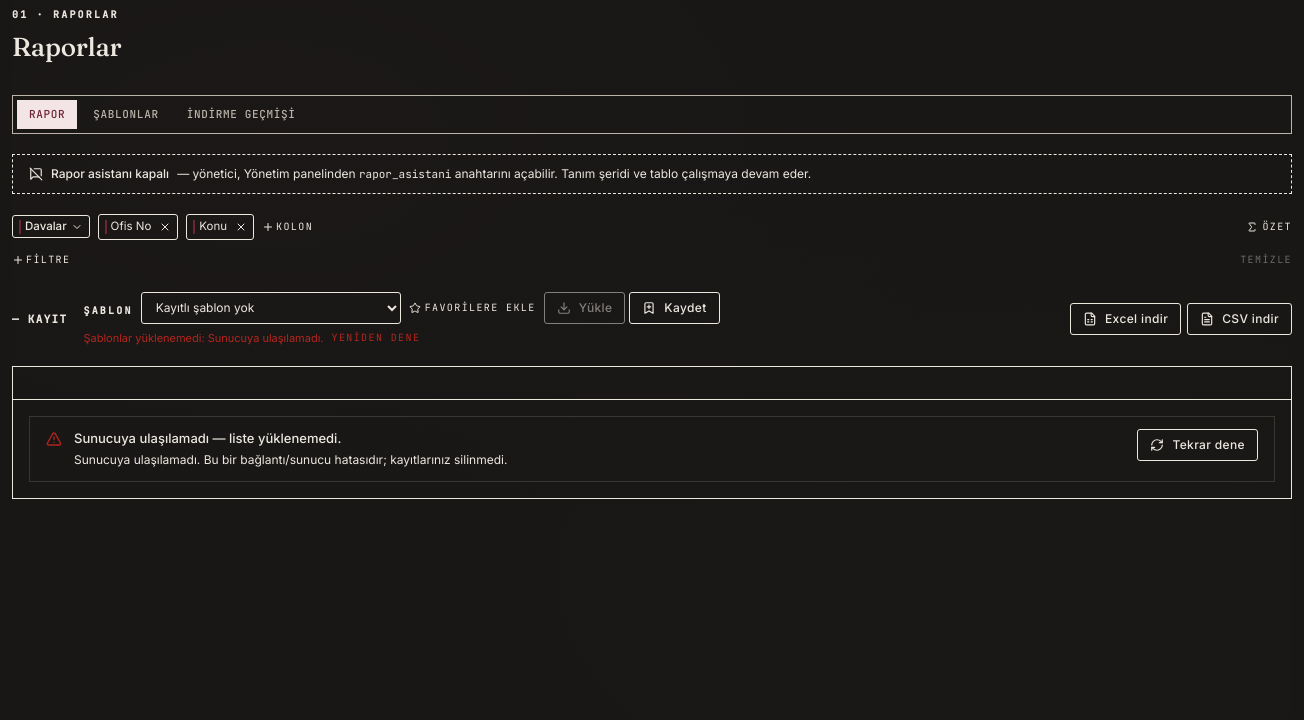
Test case: ReportsPage (G133/G138/G175) › ağ hatasında tablo boş listeye DÖNMEZ: DataErrorBanner + Tekrar dene; hata döngüye girmez
Expected: the message shows "Sunucuya ulaşılamadı.", [74,452,204,466]
Expected: the message shows "kayıtlarınız silinmedi", [204,452,507,466]
Click the button "Tekrar dene" at [1198, 445], box [1137,429,1258,461]
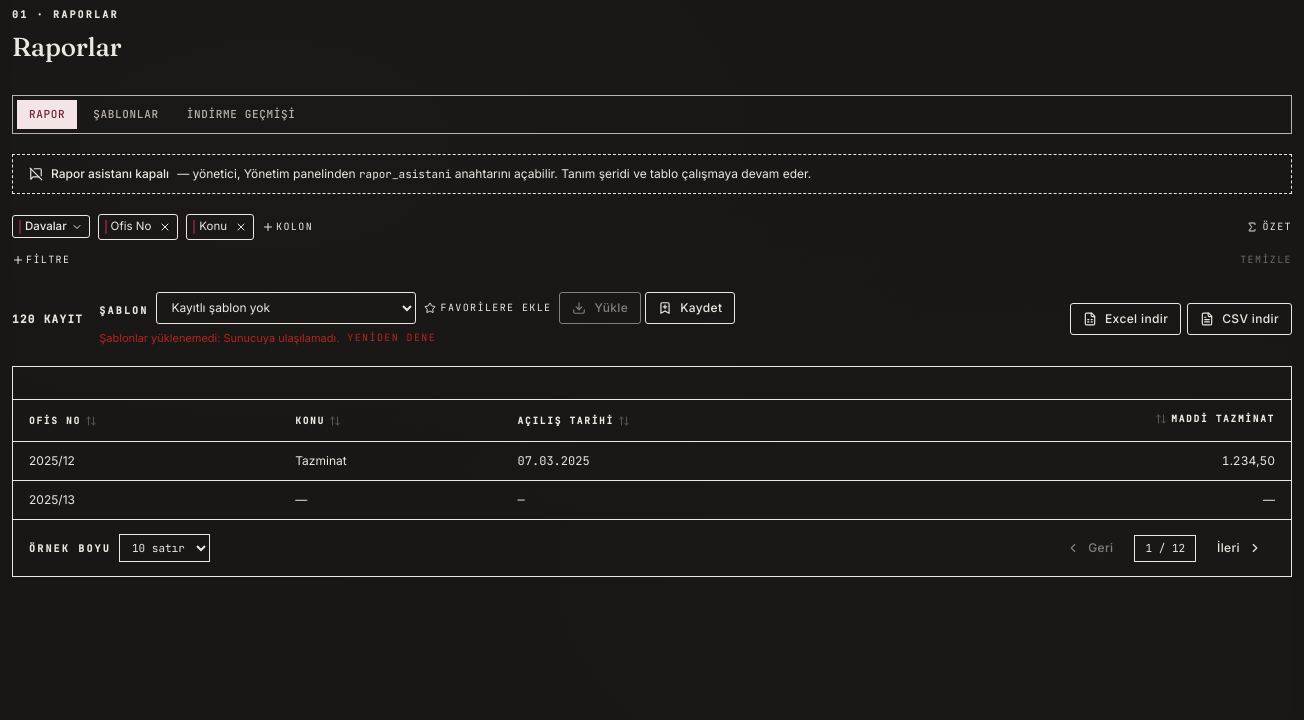
Expected: the message is gone
